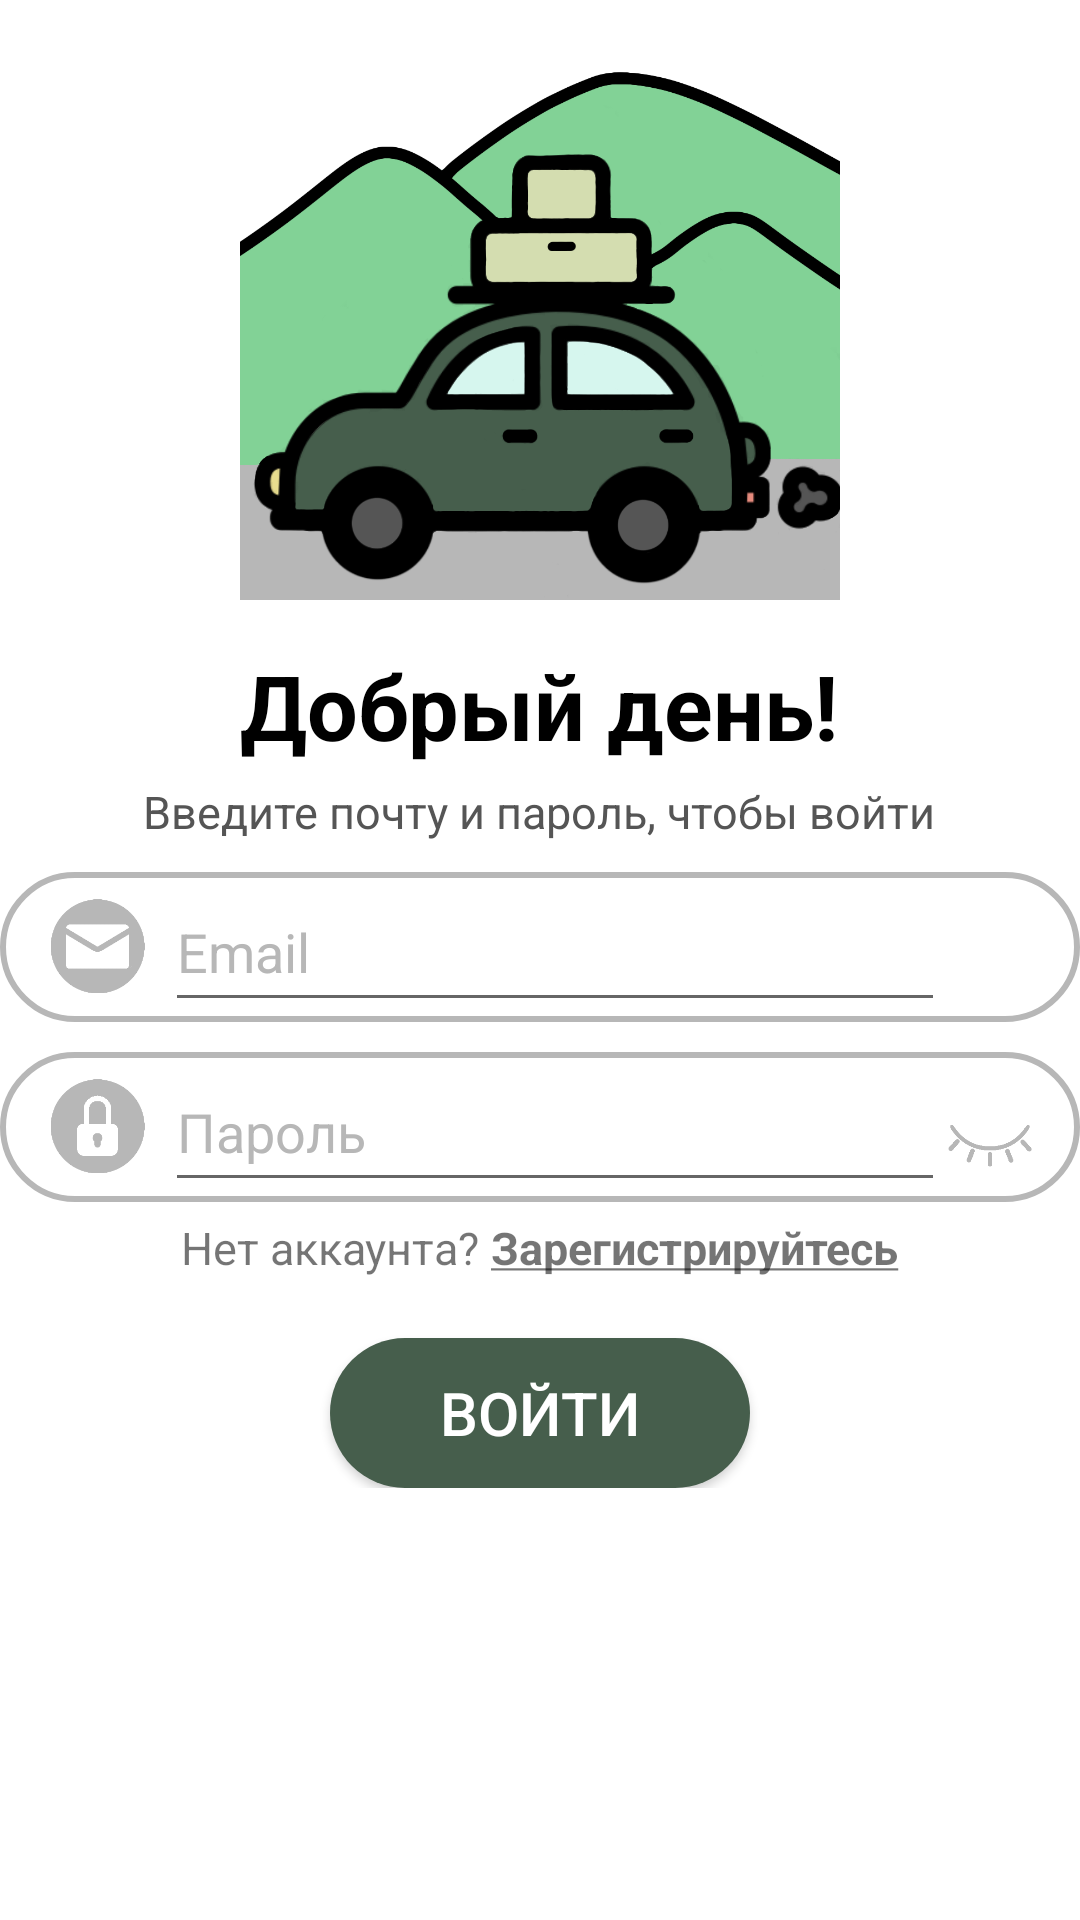

Icons on this 1080px×1920px Android screen, each with the point to tap as [x,y]:
closed eye: [990,1146]
password: [98,1126]
